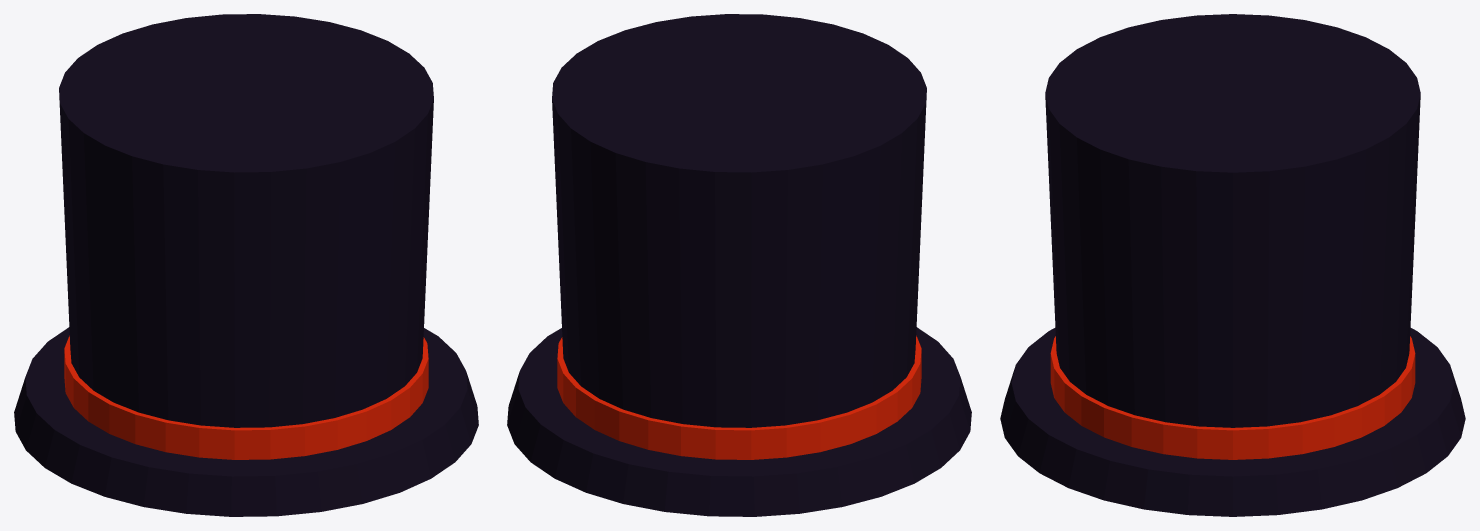
File: TopHat.fbx
3 views of the same model, side by side, from view 1: azimuth 30°, elevation 25°; view 2: azimuth 150°, elevation 25°; view 3: azimuth 270°, elevation 25° (orthographic).
Visible parts, largest first — view 1: Cylinder.002, Cylinder, Cylinder.001; view 2: Cylinder.002, Cylinder, Cylinder.001; view 3: Cylinder.002, Cylinder, Cylinder.001.
Part boxes in pixels (x1,y1,x2,y2): Cylinder.002: (59,14,433,427); Cylinder: (14,327,478,516); Cylinder.001: (64,335,428,459); Cylinder.002: (552,14,926,427); Cylinder: (507,327,971,516); Cylinder.001: (557,335,921,459); Cylinder.002: (1045,14,1420,427); Cylinder: (1000,328,1465,516); Cylinder.001: (1050,336,1415,459).
Size of the model in its own units: 200 by 154 by 200.
